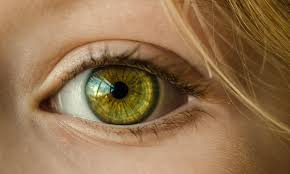pupil: (84, 66, 160, 125)
